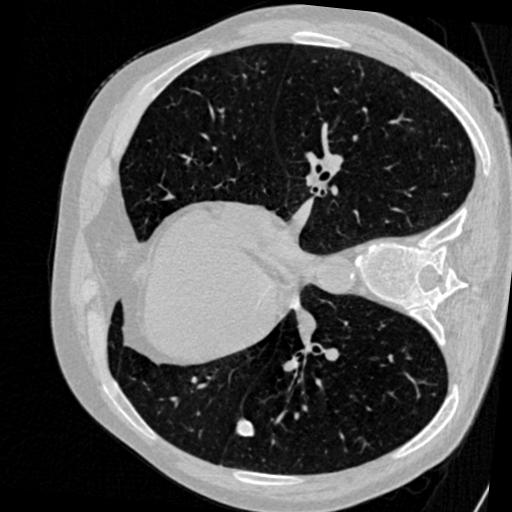nodule: (234, 416, 257, 439)
